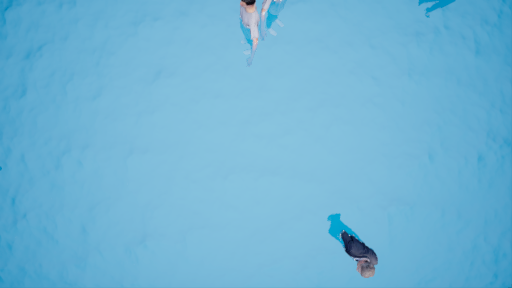person: (326, 194, 386, 280), (225, 1, 263, 63), (261, 1, 295, 56)
